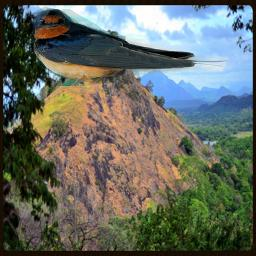Swallow: (28, 5, 229, 86)
